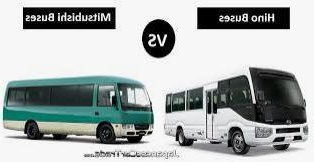bus: (164, 68, 310, 154), (2, 75, 153, 143)
